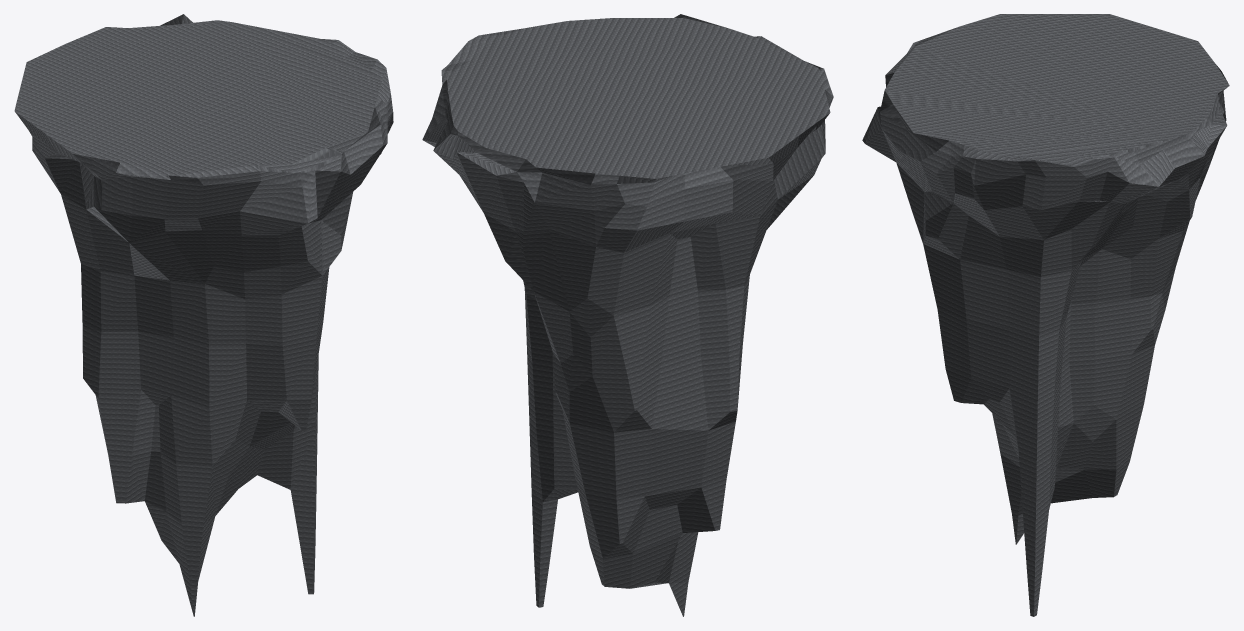
The model's file is FloatingRock2.fbx.
3 renders of one model, left to right at view 1: azimuth 30°, elevation 25°; view 2: azimuth 150°, elevation 25°; view 3: azimuth 270°, elevation 25°, orthographic. The views are drawn at different scales.
Visible parts, largest first — view 1: RockGeneric.001; view 2: RockGeneric.001; view 3: RockGeneric.001.
Part boxes in pixels (left/top/right/bottom): RockGeneric.001: left=14, top=14, right=393, bottom=616; RockGeneric.001: left=422, top=14, right=833, bottom=616; RockGeneric.001: left=862, top=14, right=1229, bottom=616.
Bounding box in the file's own units: 6145 × 9399 × 6441.
